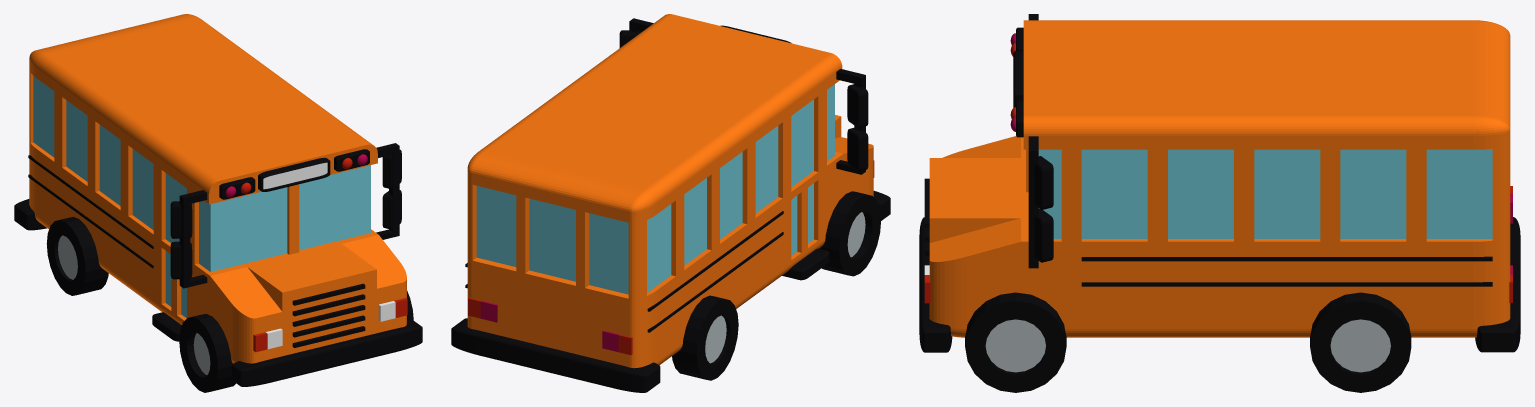
The model's file is bus.obj.
3 views of the same model, side by side, from view 1: azimuth 30°, elevation 25°; view 2: azimuth 150°, elevation 25°; view 3: azimuth 270°, elevation 25° (orthographic). The views are drawn at different scales.
Visible parts, largest first — view 1: obj_0; view 2: obj_0; view 3: obj_0.
Boxes of the visible parts, left/top/right/bottom form: obj_0: left=14, top=14, right=422, bottom=392; obj_0: left=451, top=14, right=890, bottom=392; obj_0: left=919, top=14, right=1520, bottom=392.
Size of the model in its own units: 68.43 by 57.04 by 118.
